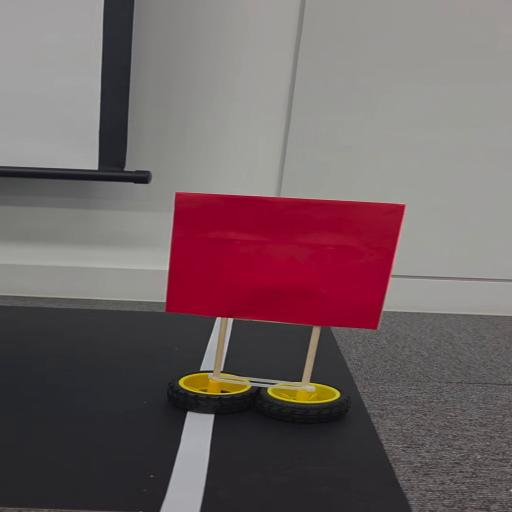Sign_A: (152, 187, 404, 417)
